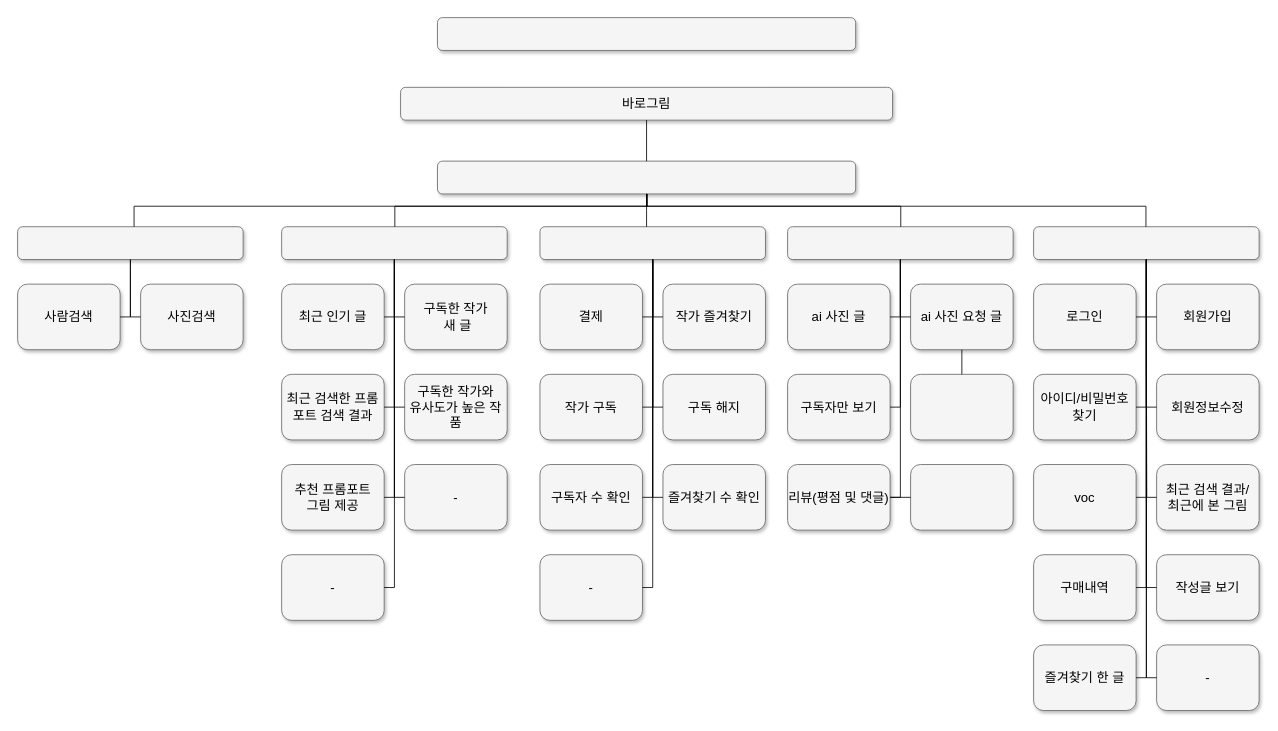
Some shapes in this 1278 by 731 pixel diagram are drawn without their labels. Each missing label, with the centre of its shape:
ai 영상?: [647,35]
개인 발주 작성: [962,408]
검색: [131,244]
구독서비스: [653,244]
좋아요 버튼: [962,498]
추천: [395,244]
커뮤니티: [901,244]
홈페이지: [647,178]
회원관리: [1147,244]
